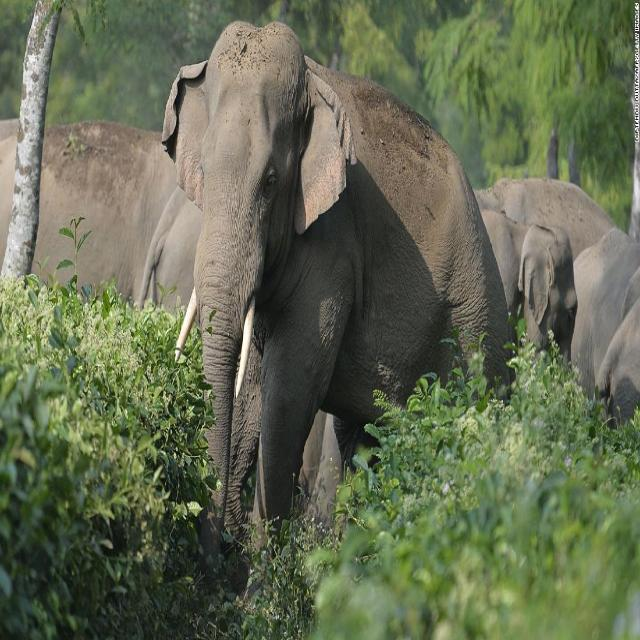Elephant: (163, 16, 508, 533), (0, 106, 187, 360), (493, 161, 640, 480)
